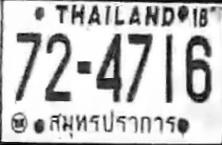1: (164, 34, 173, 100)
2: (44, 32, 72, 100)
4: (95, 32, 122, 102)
6: (184, 34, 212, 102)
7: (14, 31, 41, 102), (126, 33, 152, 102)
SPK: (42, 108, 181, 142)
